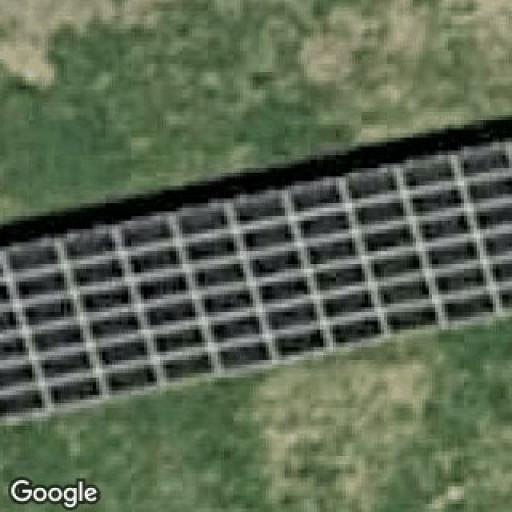solar-panel: (0, 138, 512, 427)
